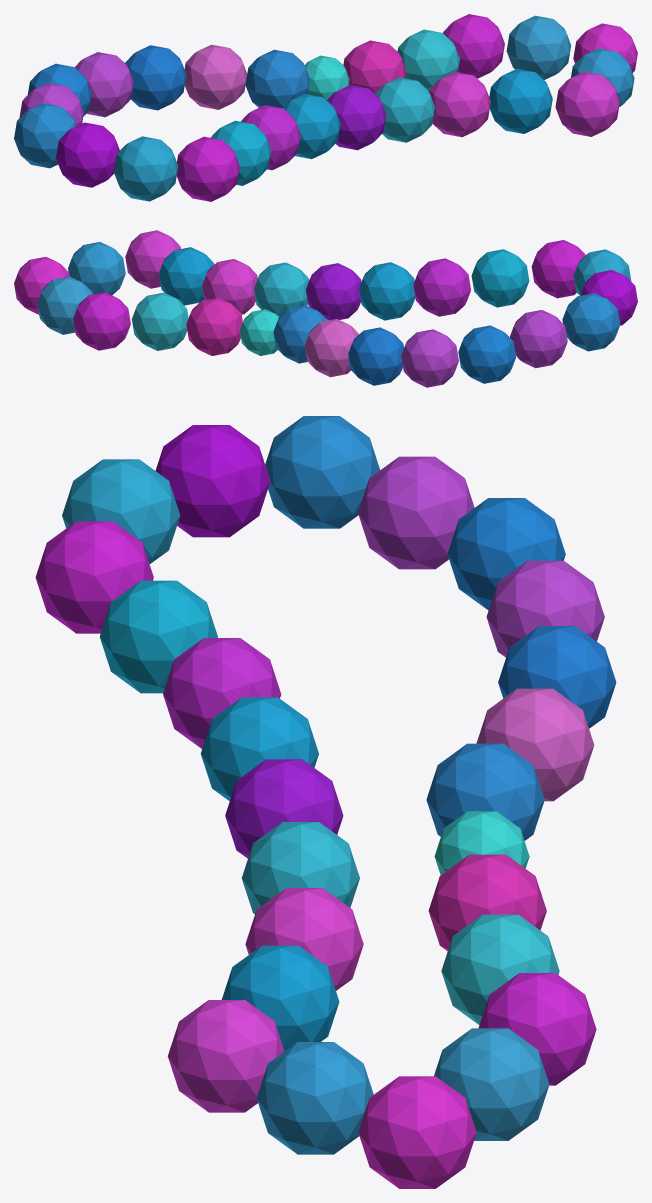
The model's file is Bead$3.fbx.
3 views of the same model, one above another, from view 1: azimuth 30°, elevation 25°; view 2: azimuth 150°, elevation 25°; view 3: azimuth 270°, elevation 25° (orthographic). The views are drawn at different scales.
Visible parts, largest first — view 1: Icosphere.024; view 2: Icosphere.024; view 3: Icosphere.024.
Boxes of the visible parts, bbox=[...] form: Icosphere.024: bbox=[14, 14, 637, 201]; Icosphere.024: bbox=[14, 230, 637, 387]; Icosphere.024: bbox=[35, 416, 616, 1188].
Size of the model in its own units: 1388 by 297 by 609.
